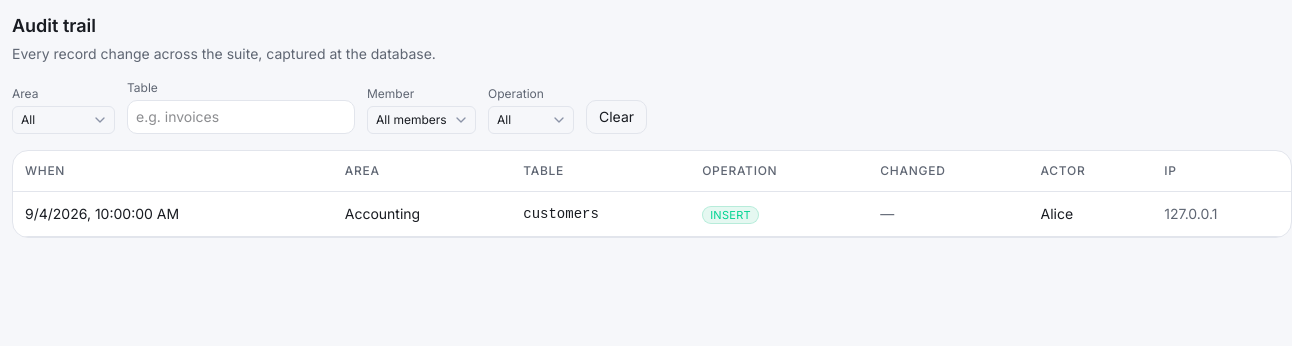
Scenario: AuditLogPage › expanding a row fetches and shows the before/after diff
What coordinates should you click on to do the following:
click the text "customers"
I would click on:
 (601, 214)
Its box is [511, 192, 690, 236].
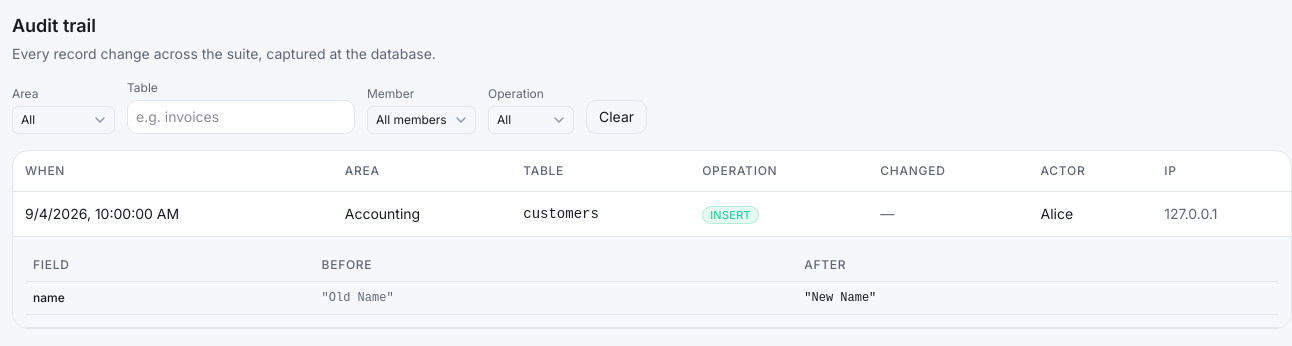
Check: the text "\"Old Name\"" is shown, box [314, 282, 796, 314]
Check: the text "\"New Name\"" is shown, box [796, 282, 1279, 314]
